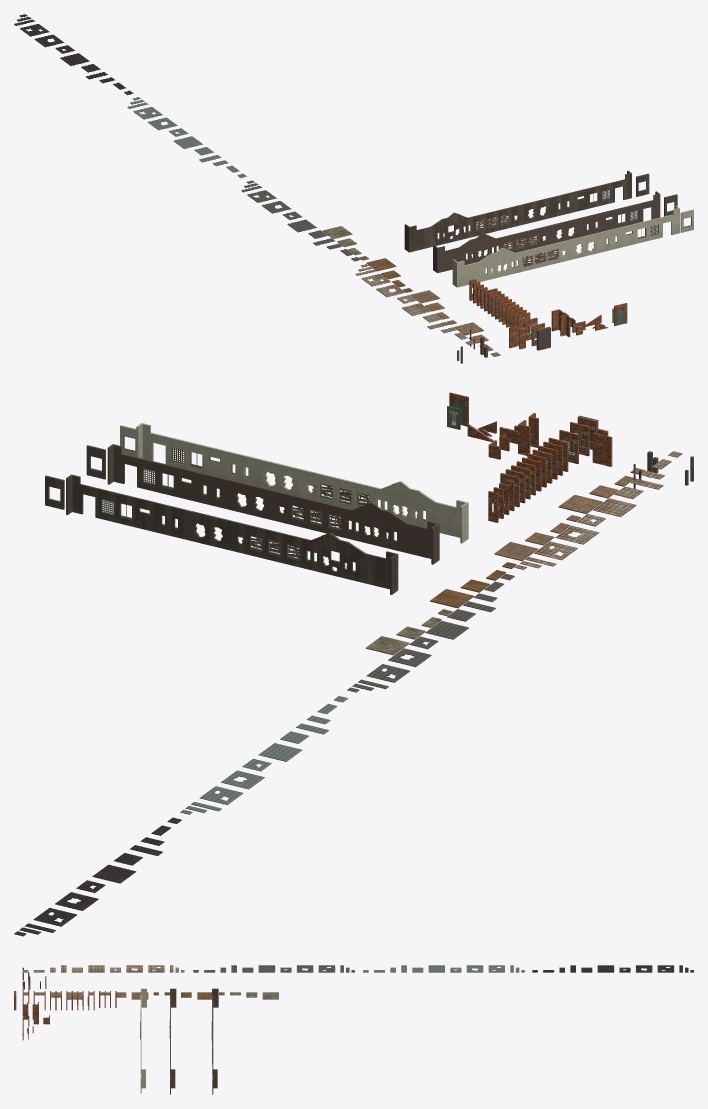
The model's file is building naprawione.fbx.
The picture shows the model from 3 angles, top to bottom: view 1: azimuth 30°, elevation 25°; view 2: azimuth 150°, elevation 25°; view 3: azimuth 270°, elevation 25°; orthographic projection. The views are drawn at different scales.
Size of the model in its own units: 5051 by 445 by 12467.
